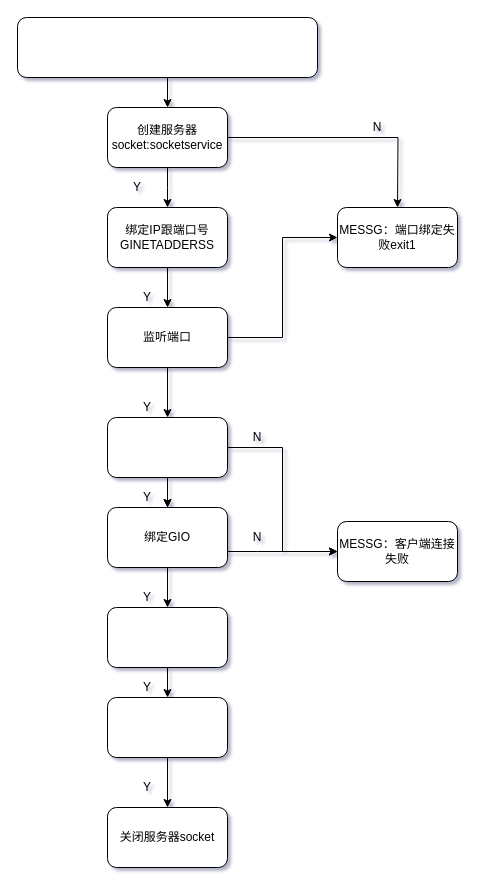
The diagram is 481 pixels wide and 891 high, and some of its shapes have lost their labels. Each missing label, with the centre of its shape:
"关闭GIO" belongs at point (167, 727).
"服务器流程" belongs at point (167, 47).
"获取客户端IP跟端口" belongs at point (167, 447).
"读取数据，写入数据" belongs at point (167, 637).
